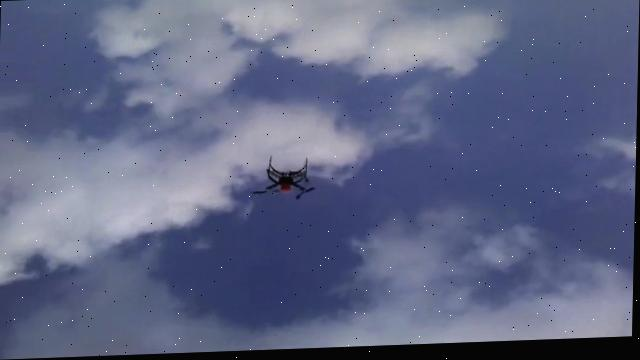drone: (251, 156, 316, 204)
